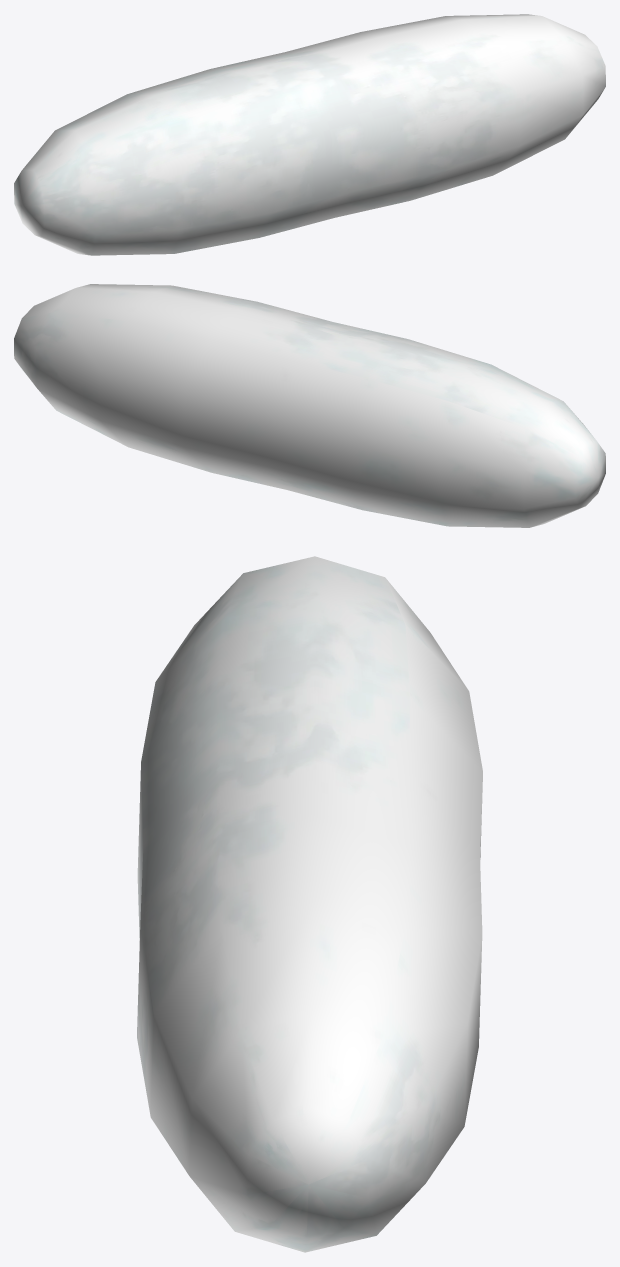
Rendered from pm-river-foam-01.glb.
3 views of the same model, one above another, from view 1: azimuth 30°, elevation 25°; view 2: azimuth 150°, elevation 25°; view 3: azimuth 270°, elevation 25° (orthographic). The views are drawn at different scales.
Parts seen in each view (by area): view 1: RiverFoam01; view 2: RiverFoam01; view 3: RiverFoam01.
Boxes of the visible parts, bbox=[...] form: RiverFoam01: bbox=[14, 14, 605, 255]; RiverFoam01: bbox=[14, 284, 605, 527]; RiverFoam01: bbox=[137, 556, 482, 1252].
Size of the model in its own units: 7.17 by 1.88 by 1.86.
Materials: 1 (1 with a texture image).
